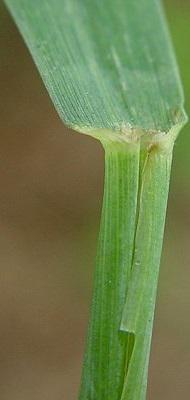Potato: (86, 141, 167, 400), (23, 9, 180, 136)
